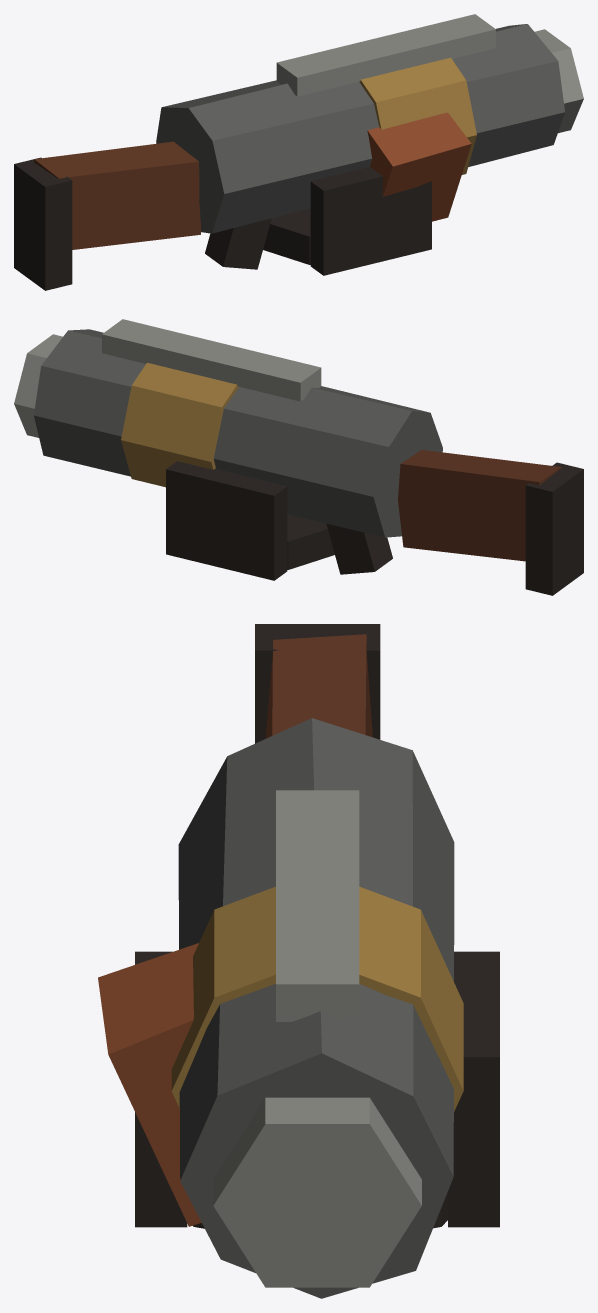
The model's file is wrec_mg_b.glb.
3 renders of one model, top to bottom at view 1: azimuth 30°, elevation 25°; view 2: azimuth 150°, elevation 25°; view 3: azimuth 270°, elevation 25°, orthographic. The views are drawn at different scales.
Parts seen in each view (by area): view 1: wrec_mg_b; view 2: wrec_mg_b; view 3: wrec_mg_b.
Boxes of the visible parts, <box> form: wrec_mg_b: <box>14,14,583,290</box>; wrec_mg_b: <box>14,319,583,595</box>; wrec_mg_b: <box>98,624,499,1298</box>.
Bounding box in the file's own units: 0.585 × 0.1941 × 0.1929.
